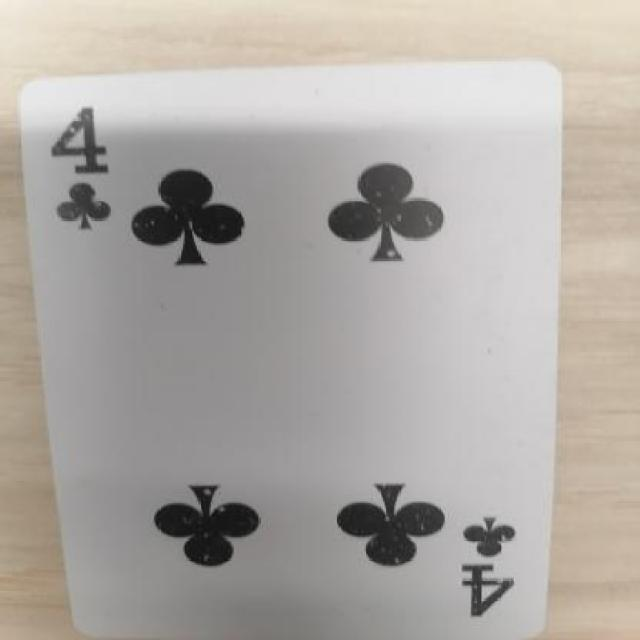4C: (48, 98, 135, 240), (461, 498, 534, 634)
